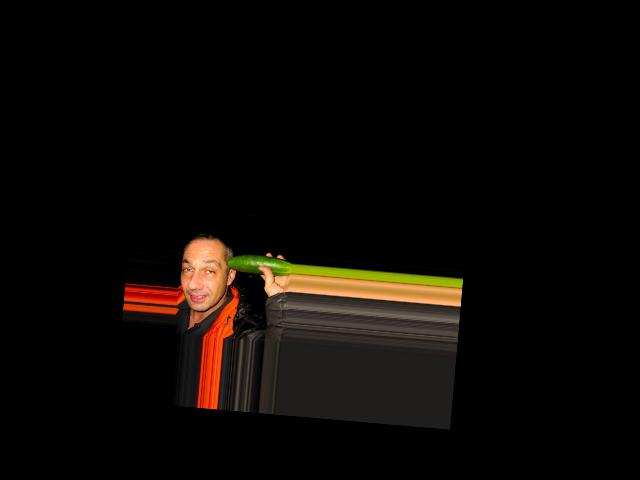cucumber: (225, 252, 292, 276)
